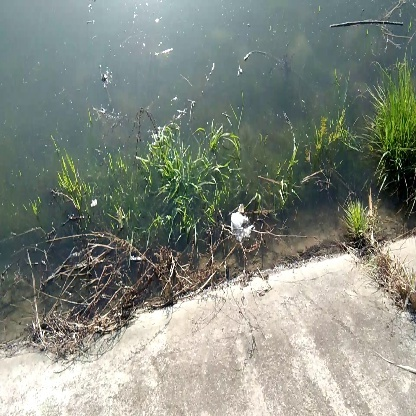branch: (325, 9, 416, 40)
grass: (372, 74, 416, 159)
plastic-bag: (225, 208, 263, 249)
